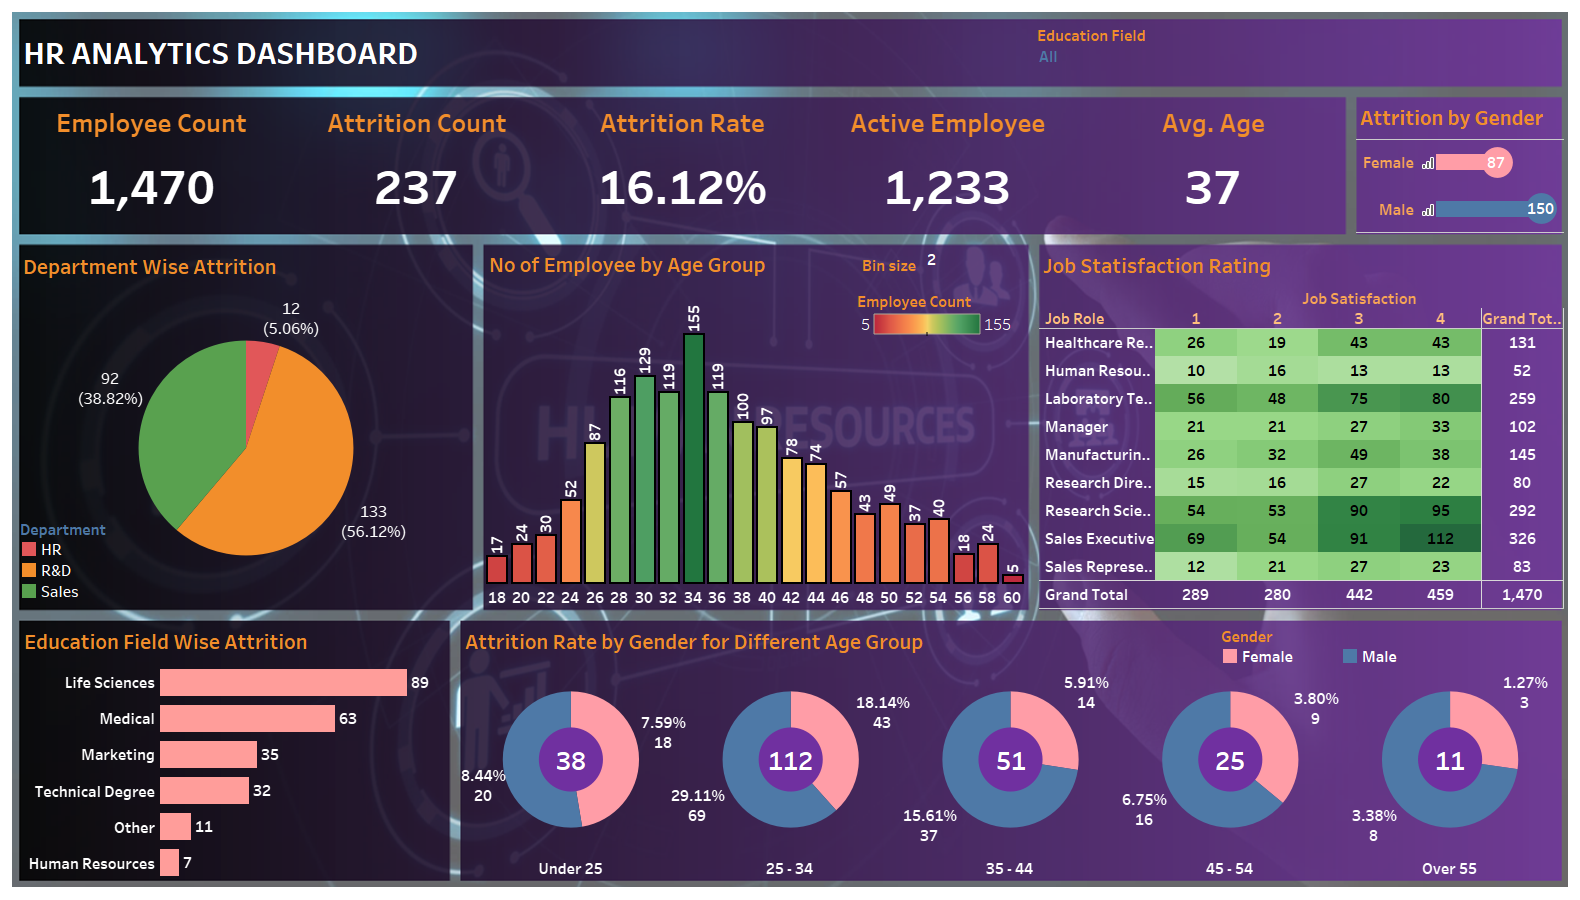

This screenshot's page, from the dashboard's own definition file:
{"tool":"tableau","page":{"name":"HR ANALYTICS DASHBOARD","canvas":[1580,900],"ordinal":0},"visuals":[{"type":"image","param":"C:/Users/Harshini/Downloads/HR background.png","box":[8,8,1564,884]},{"type":"text","box":[20,17,648,70]},{"type":"filter","title":"KPI","param":"[federated.04alkpv05j1ktq1dfbrlr196qpwl].[none:Education Field:nk]","box":[1037,24,224,64]},{"type":"worksheet","title":"Attrition by Gender","mark":"Automatic","rows":["Gender"],"cols":["Calculation_634163147228364801","Calculation_634163147228364801"],"box":[1356,97,208,136]},{"type":"worksheet","title":"KPI","mark":"Automatic","box":[19,99,1327,133]},{"type":"worksheet","title":"No of Employee by Age Group","mark":"Automatic","rows":["Employee Count"],"cols":["Age (bin)"],"box":[485,244,540,365]},{"type":"worksheet","title":"Job Statisfaction Rating","mark":"Square","rows":["Job Role"],"cols":["Job Satisfaction"],"box":[1039,245,525,364]},{"type":"worksheet","title":"Department Wise Attrition","mark":"Pie","box":[19,246,454,361]},{"type":"parameter","param":"[Parameters].[Parameter 1]","box":[853,249,170,32]},{"type":"legend","title":"No of Employee by Age Group","param":"[federated.04alkpv05j1ktq1dfbrlr196qpwl].[sum:Employee Count:qk]","box":[857,287,159,55]},{"type":"legend","title":"Department Wise Attrition","param":"[federated.04alkpv05j1ktq1dfbrlr196qpwl].[none:Department:nk]","box":[19,517,140,85]},{"type":"worksheet","title":"Education Field Wise Attrition","mark":"Automatic","rows":["Education Field"],"cols":["Calculation_634163147228364801"],"box":[20,621,426,260]},{"type":"worksheet","title":"Attrition Rate by Gender for Different Age Group","mark":"Pie","rows":["Calculation_634163147256508421","Calculation_634163147256508421"],"cols":["CF_age band"],"box":[461,621,1099,259]},{"type":"legend","title":"Attrition by Gender","param":"[federated.04alkpv05j1ktq1dfbrlr196qpwl].[none:Gender:nk]","box":[1220,624,338,45]}]}

Visuals, with their boxes in screenshot pixels (x1, y1, x2, y2), scaled from the page's 1580x900 canvas onto the 1580x900 screenshot:
image: (8, 8, 1572, 892)
text: (20, 17, 668, 87)
"KPI" filter: (1037, 24, 1261, 88)
"Attrition by Gender" worksheet: (1356, 97, 1564, 233)
"KPI" worksheet: (19, 99, 1346, 232)
"No of Employee by Age Group" worksheet: (485, 244, 1025, 609)
"Job Statisfaction Rating" worksheet (Square marks): (1039, 245, 1564, 609)
"Department Wise Attrition" worksheet (Pie marks): (19, 246, 473, 607)
parameter: (853, 249, 1023, 281)
"No of Employee by Age Group" legend: (857, 287, 1016, 342)
"Department Wise Attrition" legend: (19, 517, 159, 602)
"Education Field Wise Attrition" worksheet: (20, 621, 446, 881)
"Attrition Rate by Gender for Different Age Group" worksheet (Pie marks): (461, 621, 1560, 880)
"Attrition by Gender" legend: (1220, 624, 1558, 669)
